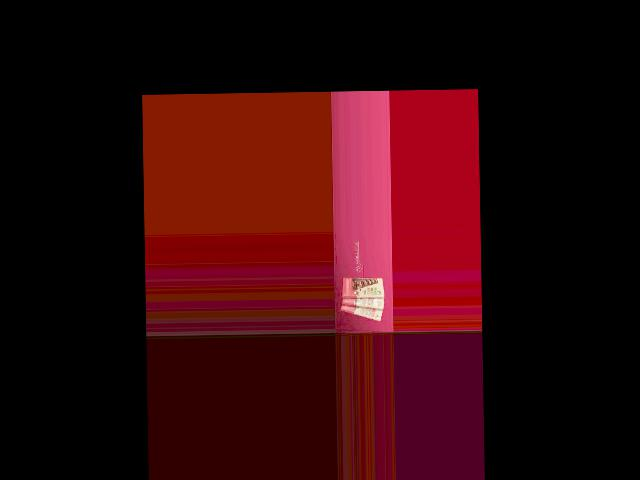chocolate: (338, 299, 385, 321)
